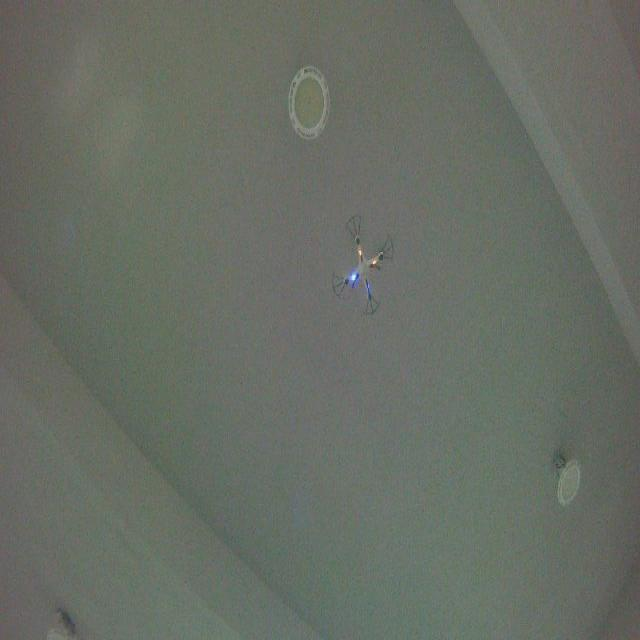drone: (329, 211, 397, 319)
